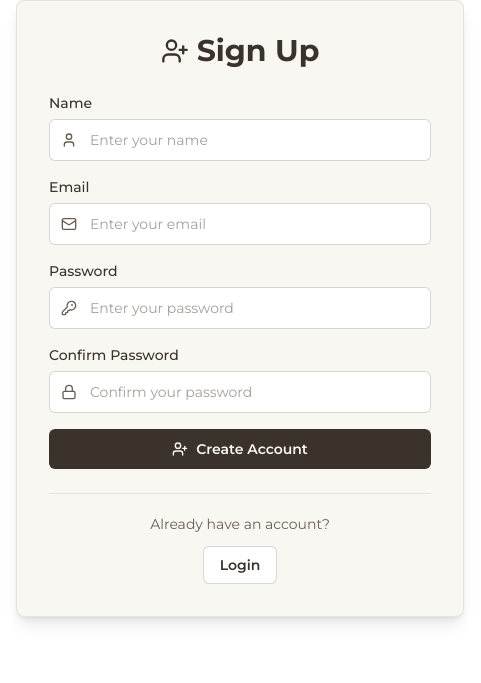
it: Register › rejects an invalid email and a short password
The image size is (481, 683).
Type "Gold Fish" into the field labelled "Name" at (240, 140), box left=49, top=119, right=431, bottom=161
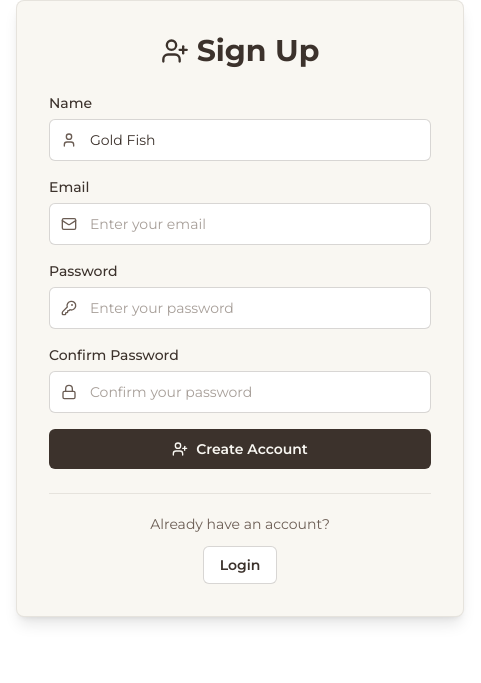
Type "not-an-email" into the field labelled "Email" at (240, 224), box left=49, top=203, right=431, bottom=245
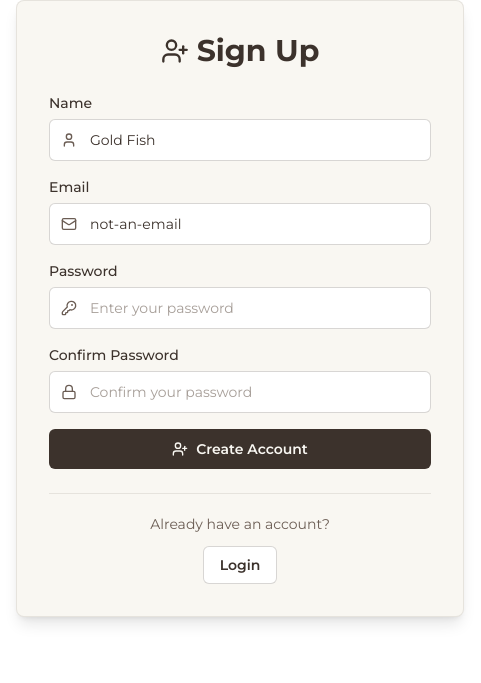
Type "123" into the password field labelled "Password" at (240, 308), box left=49, top=287, right=431, bottom=329
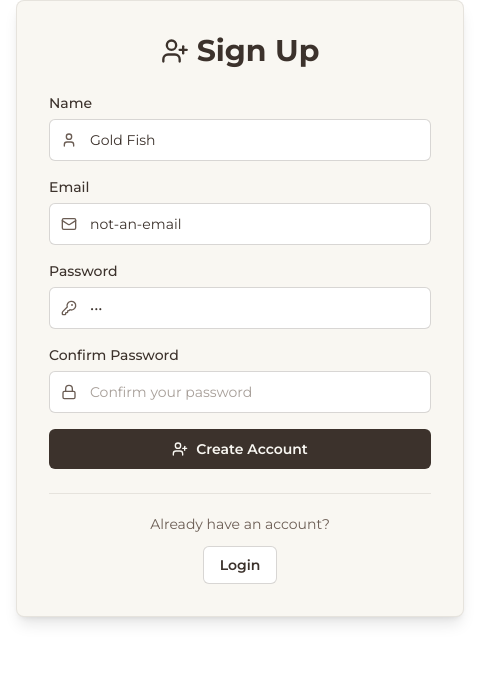
Type "123" into the password field labelled "Confirm Password" at (240, 392), box left=49, top=371, right=431, bottom=413
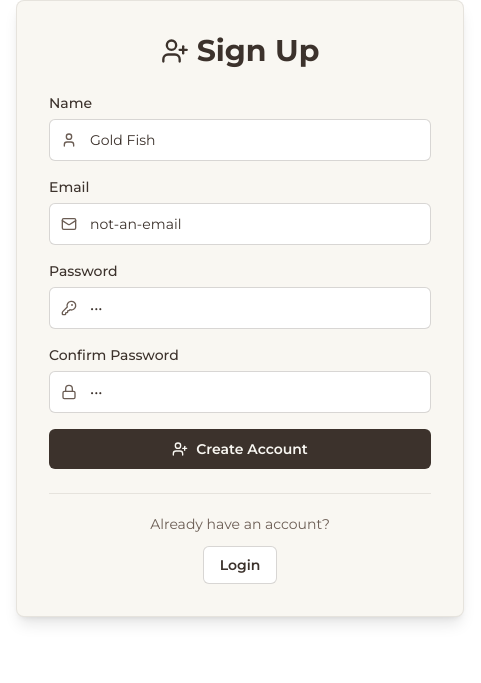
Click the button "Create Account" at (240, 449), box left=49, top=429, right=431, bottom=469
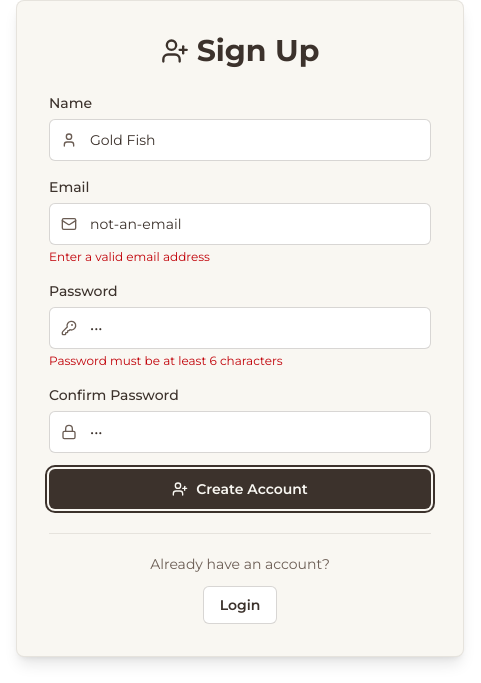
Check: the text "Enter a valid email address" is shown, box left=49, top=249, right=210, bottom=264
Check: the text "Password must be at least 6 characters" is shown, box left=49, top=353, right=282, bottom=368
